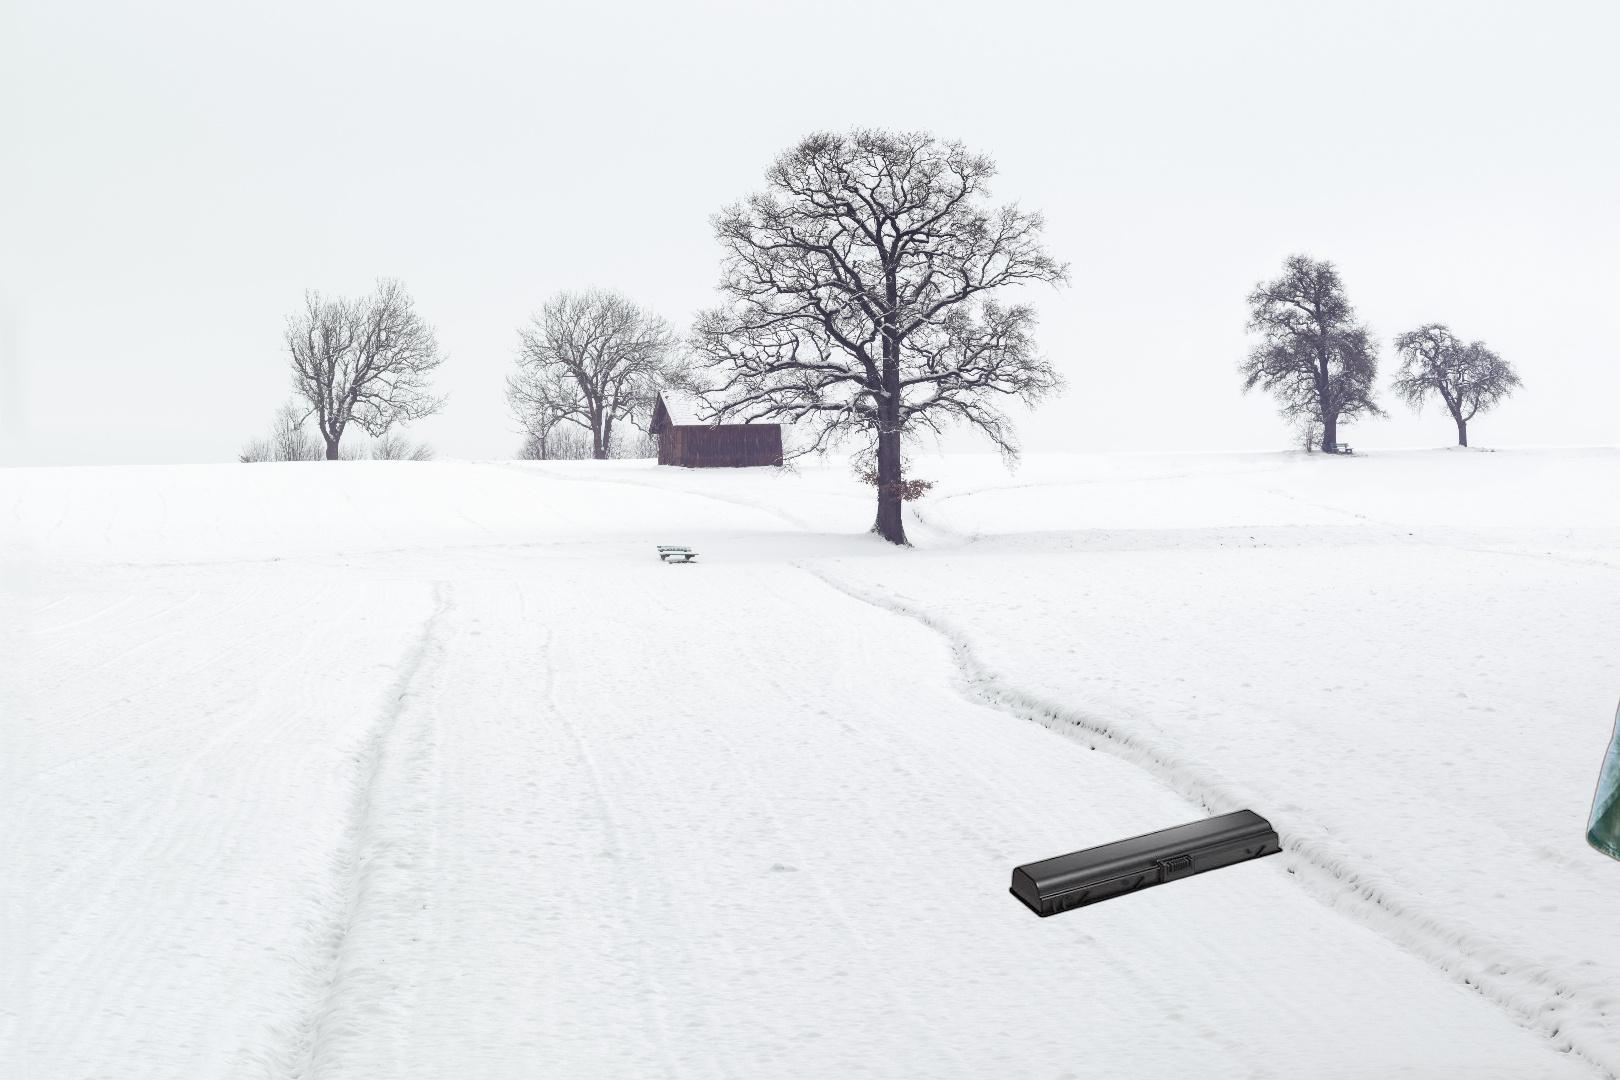battery: (1006, 806, 1285, 921)
clothes: (1583, 378, 1620, 888)
glass: (1452, 579, 1620, 1080)
